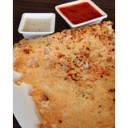dosa: (12, 24, 114, 128)
